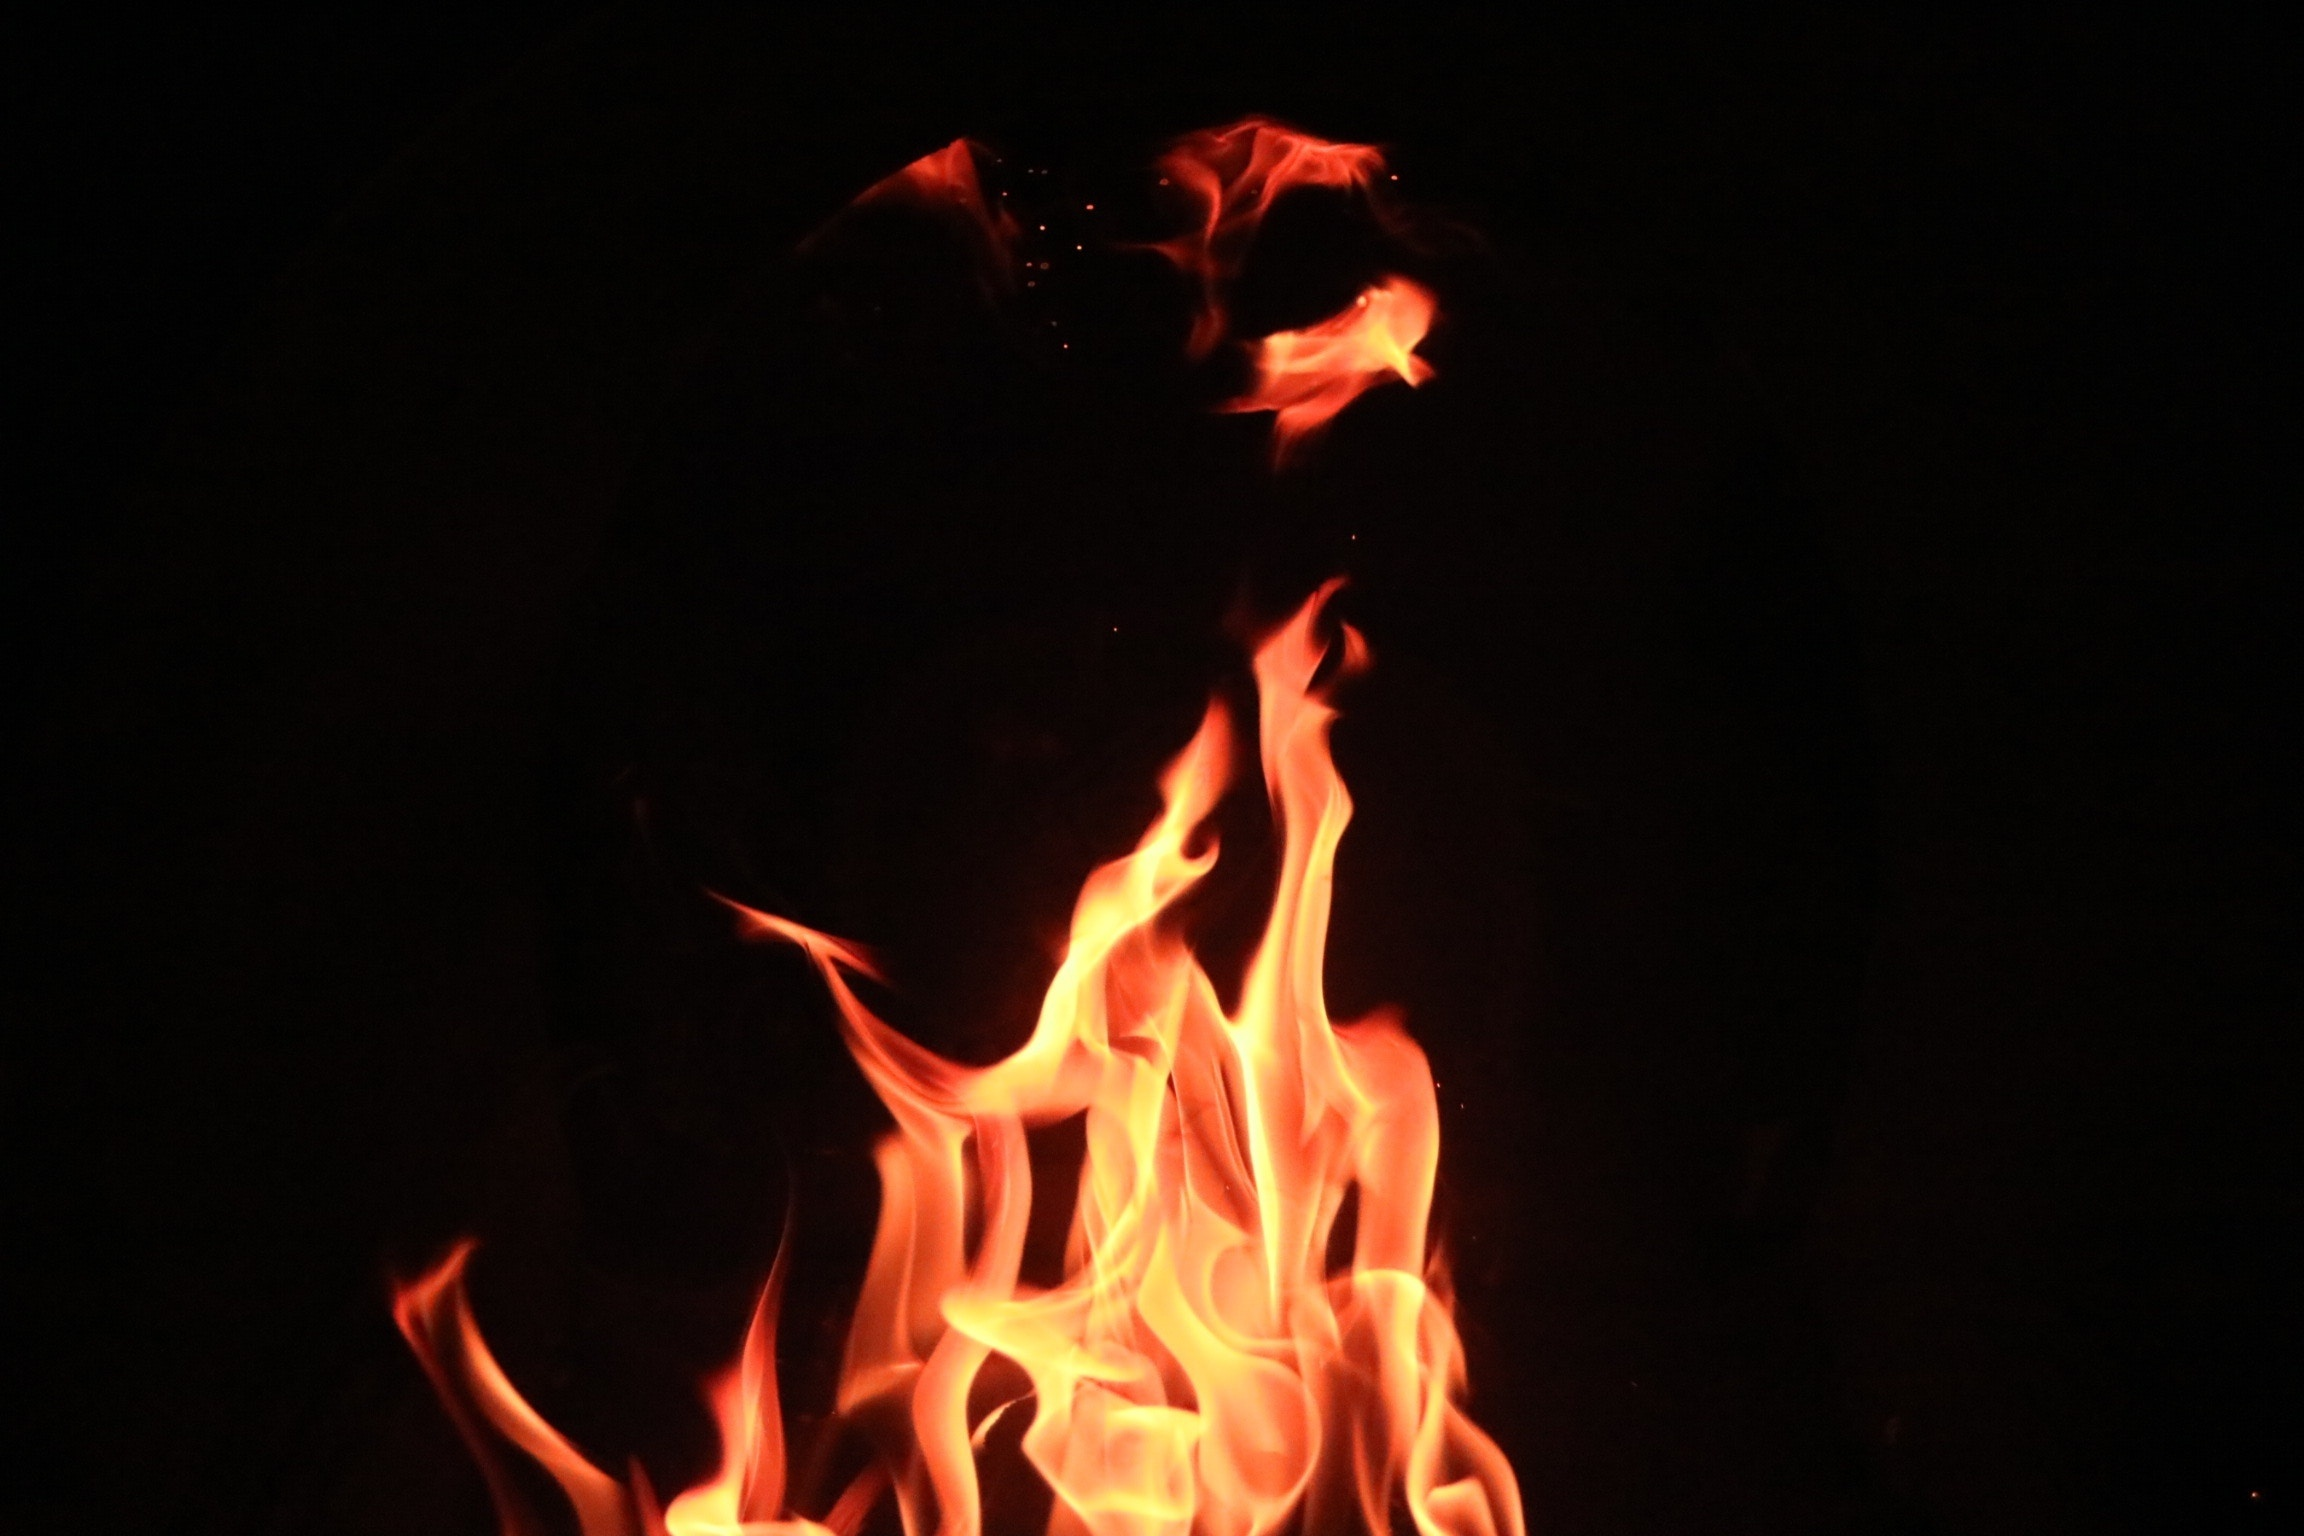fire: (348, 110, 1519, 1531)
